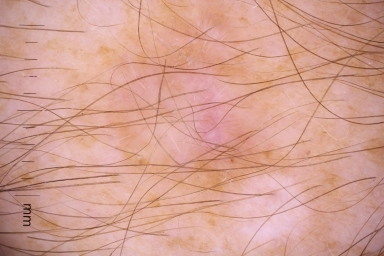nevus: (137, 75, 226, 163)
